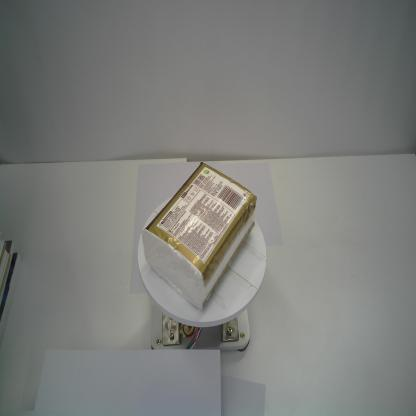Tissue: (142, 162, 257, 310)
